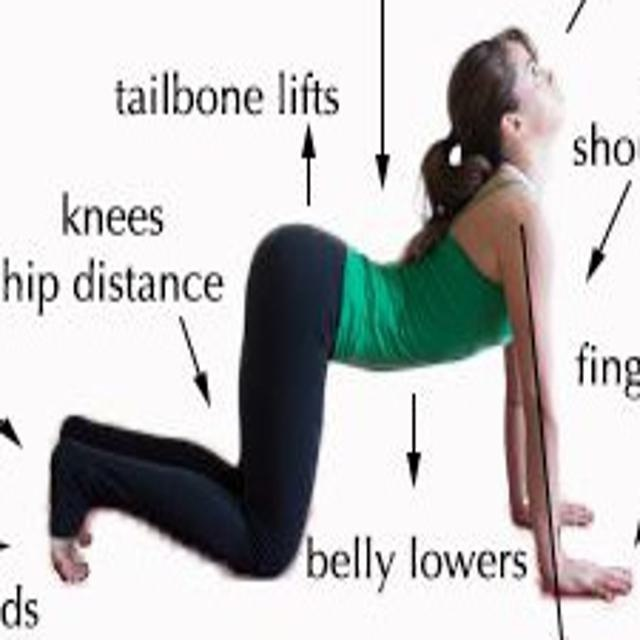Cow_Pose: (49, 31, 633, 601)
